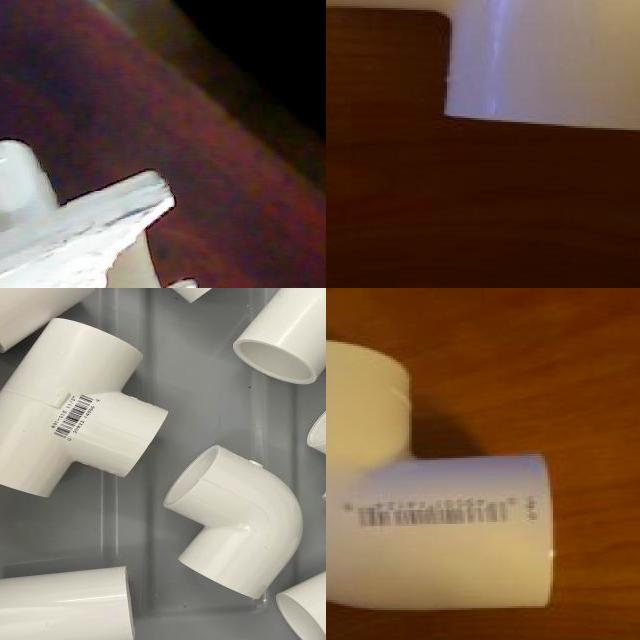Defective: (67, 191, 223, 288)
L Joint: (326, 340, 556, 614), (163, 446, 302, 603)
T Joint: (0, 318, 167, 501), (0, 140, 178, 288), (232, 288, 326, 387)
